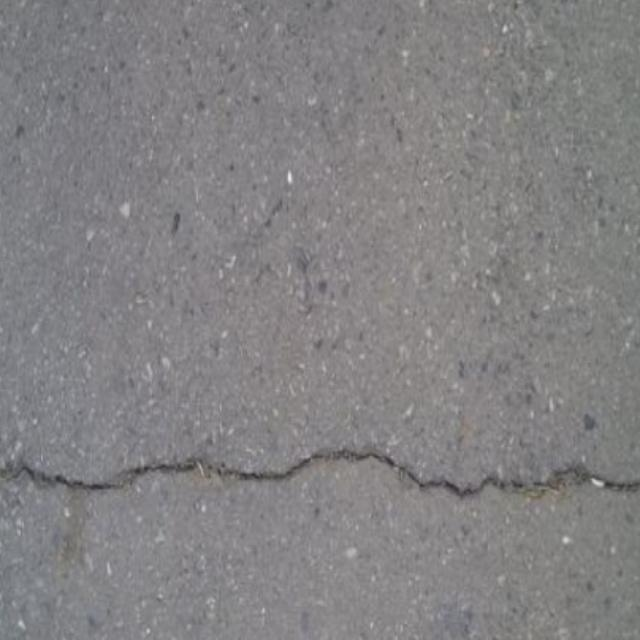Crack: (0, 434, 640, 526)
